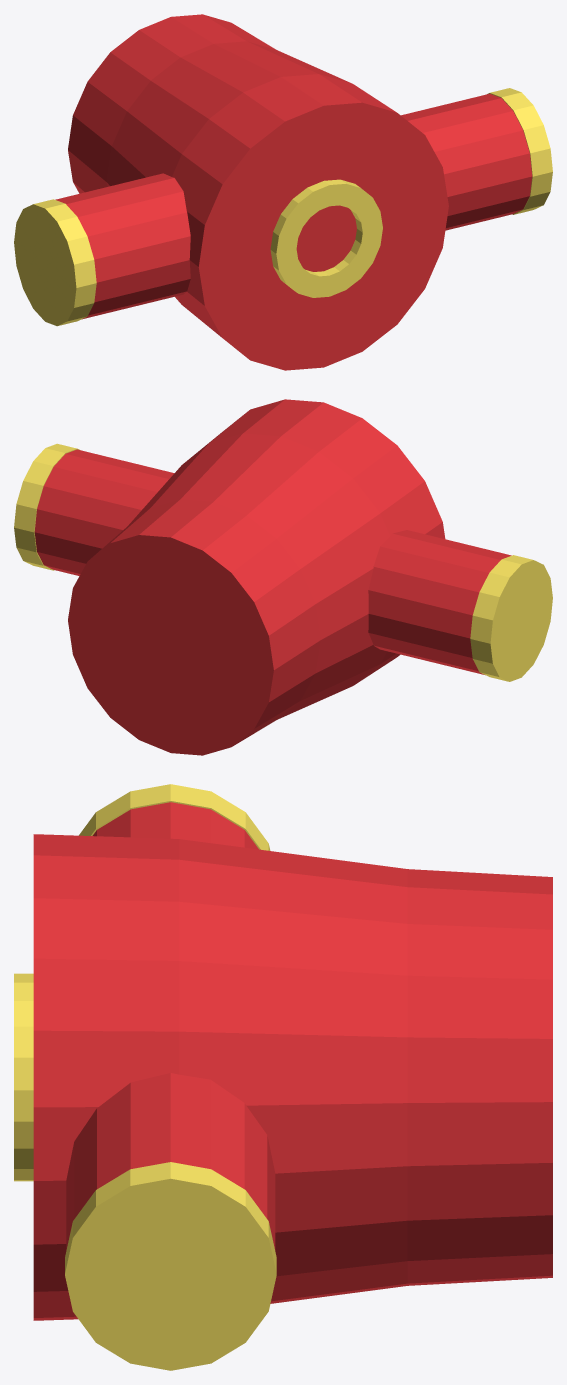
Rendered from Home_Jersey_3D.glb.
3 renders of one model, top to bottom at view 1: azimuth 30°, elevation 25°; view 2: azimuth 150°, elevation 25°; view 3: azimuth 270°, elevation 25°, orthographic. The views are drawn at different scales.
Parts seen in each view (by area): view 1: HomeJersey_0, HomeJersey_1, HomeJersey_3, HomeJersey_2, HomeJersey_5, HomeJersey_4; view 2: HomeJersey_0, HomeJersey_1, HomeJersey_3, HomeJersey_2, HomeJersey_4; view 3: HomeJersey_0, HomeJersey_4, HomeJersey_3, HomeJersey_1, HomeJersey_5, HomeJersey_2.
Boxes of the visible parts, left/top/right/bottom form: HomeJersey_0: left=68, top=14, right=448, bottom=370; HomeJersey_1: left=55, top=173, right=190, bottom=319; HomeJersey_3: left=401, top=93, right=532, bottom=230; HomeJersey_2: left=14, top=199, right=96, bottom=326; HomeJersey_5: left=270, top=179, right=382, bottom=297; HomeJersey_4: left=487, top=88, right=552, bottom=214; HomeJersey_0: left=68, top=399, right=445, bottom=755; HomeJersey_1: left=368, top=530, right=511, bottom=674; HomeJersey_3: left=34, top=449, right=174, bottom=575; HomeJersey_2: left=470, top=555, right=552, bottom=681; HomeJersey_4: left=14, top=443, right=80, bottom=570; HomeJersey_0: left=33, top=834, right=552, bottom=1320; HomeJersey_4: left=65, top=1162, right=276, bottom=1370; HomeJersey_3: left=66, top=1073, right=275, bottom=1249; HomeJersey_1: left=92, top=802, right=258, bottom=849; HomeJersey_5: left=14, top=973, right=33, bottom=1181; HomeJersey_2: left=79, top=784, right=270, bottom=850.
Bounding box in the file's own units: 1.29 × 0.68 × 0.7475.
